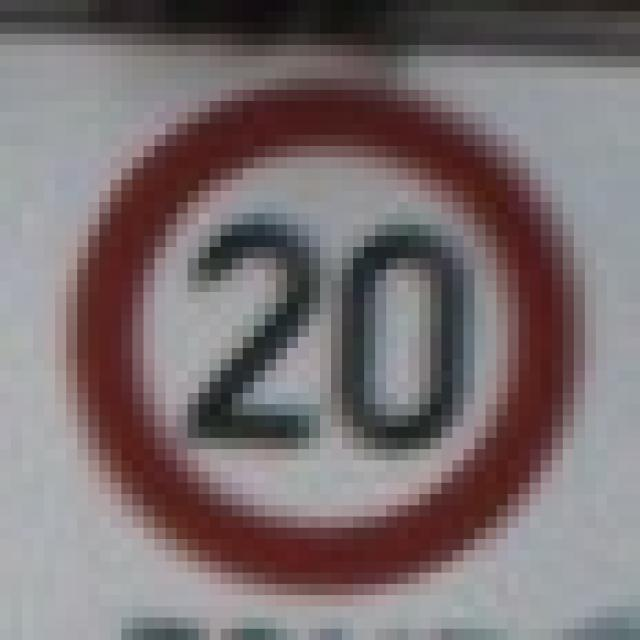Speed Limit -20-: (55, 56, 574, 573)
